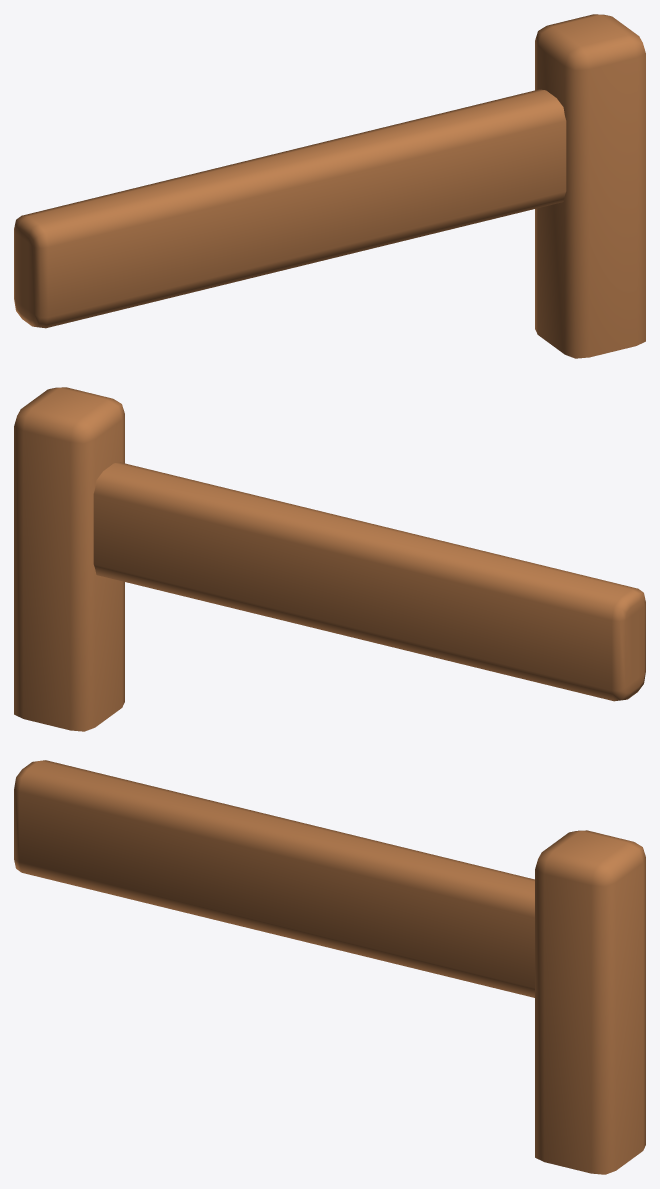
File: Wooden_Fence_09.fbx
The picture shows the model from 3 angles, top to bottom: view 1: azimuth 30°, elevation 25°; view 2: azimuth 150°, elevation 25°; view 3: azimuth 330°, elevation 25°; orthographic projection.
Parts seen in each view (by area): view 1: Wooden_Fence_09; view 2: Wooden_Fence_09; view 3: Wooden_Fence_09.
Part boxes in pixels (box(x1,y1,x2,y2)): Wooden_Fence_09: box(14, 14, 645, 358); Wooden_Fence_09: box(14, 387, 645, 731); Wooden_Fence_09: box(14, 760, 645, 1174).
Size of the model in its own units: 1412 by 679 by 183.
